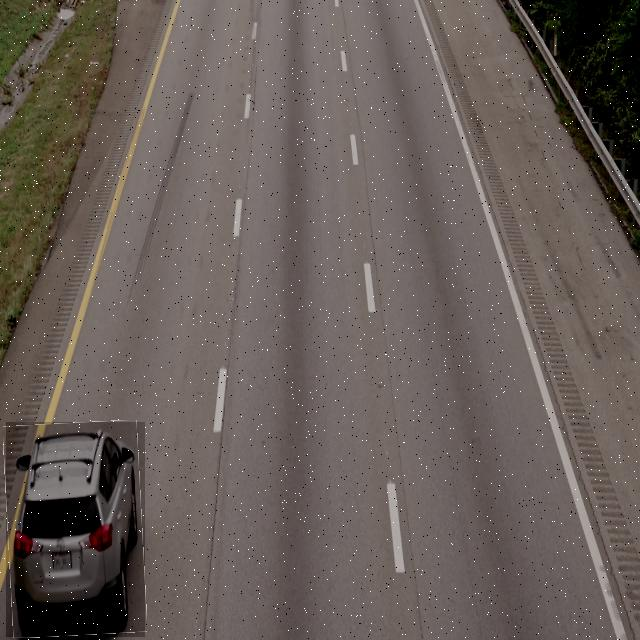Car: (6, 422, 145, 637)
